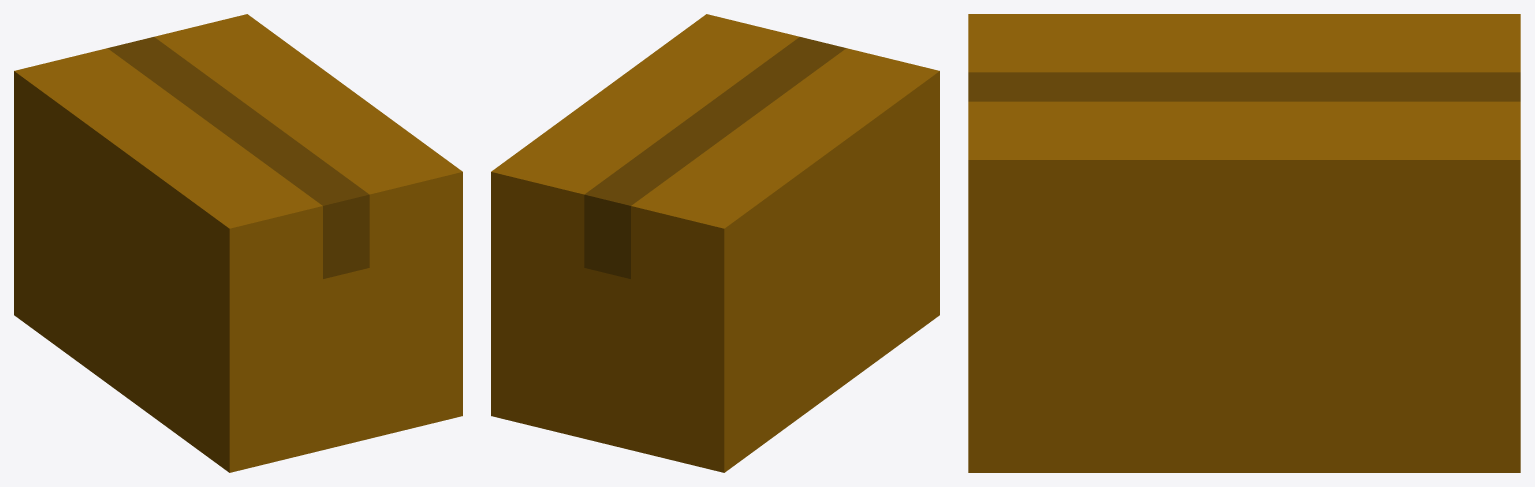
Rendered from cardboard_box.obj.
3 views of the same model, side by side, from view 1: azimuth 30°, elevation 25°; view 2: azimuth 150°, elevation 25°; view 3: azimuth 270°, elevation 25° (orthographic). The views are drawn at different scales.
Size of the model in its own units: 1 by 1 by 1.6.
1 material, 1 textured.
